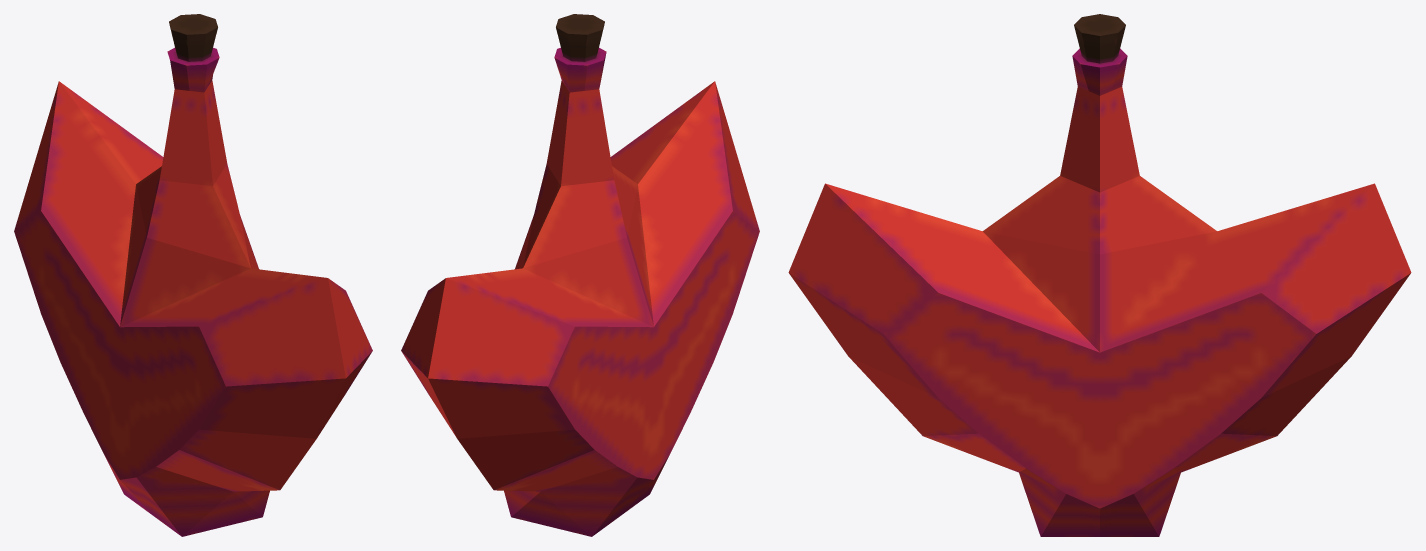
Rendered from RedBottle.fbx.
The picture shows the model from 3 angles, left to right: view 1: azimuth 30°, elevation 25°; view 2: azimuth 150°, elevation 25°; view 3: azimuth 270°, elevation 25°; orthographic projection. The views are drawn at different scales.
Visible parts, largest first — view 1: Cube.061; view 2: Cube.061; view 3: Cube.061.
Part boxes in pixels (box(x1,y1,x2,y2)): Cube.061: box(14, 14, 372, 536); Cube.061: box(401, 14, 759, 536); Cube.061: box(788, 14, 1411, 536).
Bounding box in the file's own units: 5.87 × 18.37 × 21.1.
